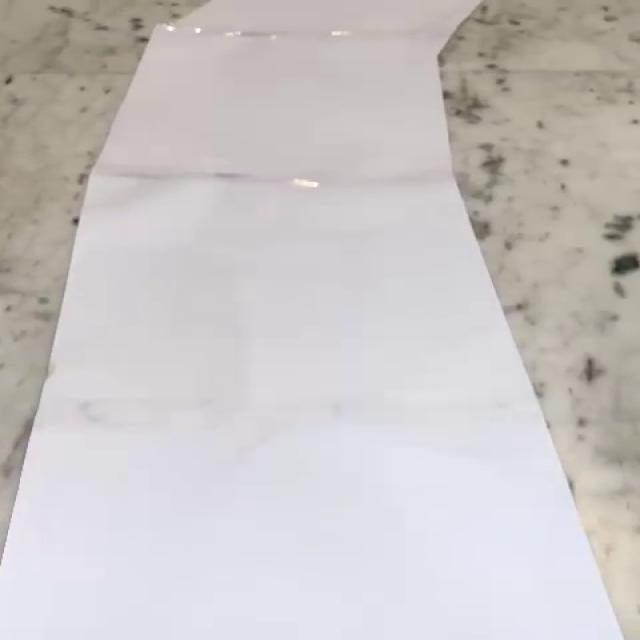road: (3, 0, 624, 640)
